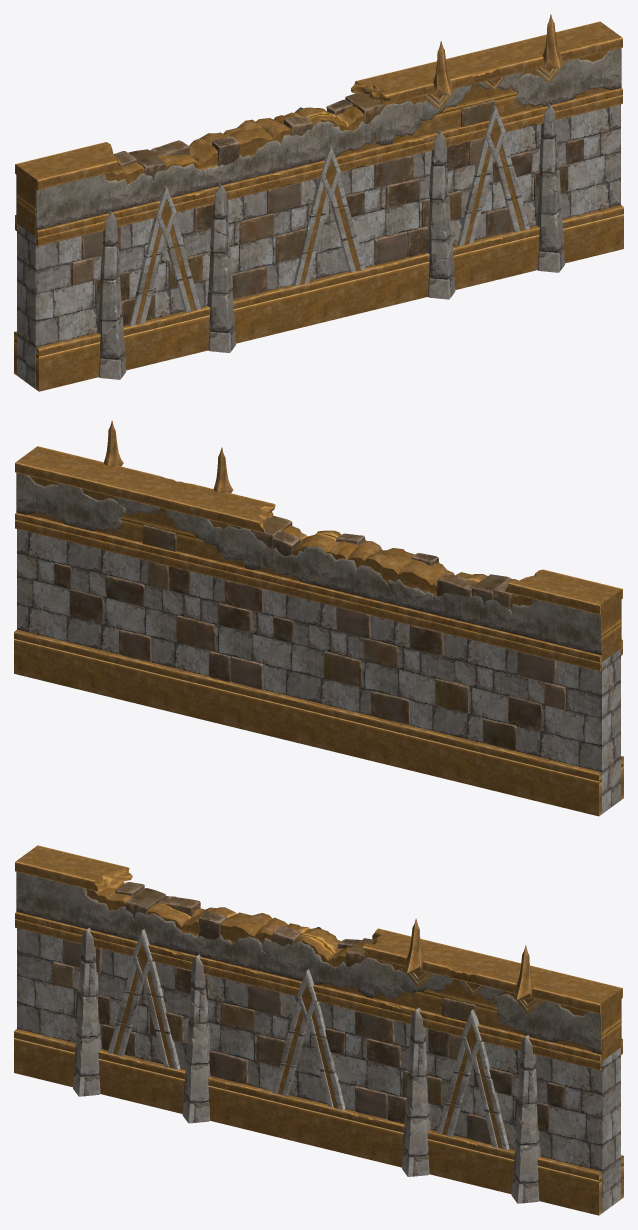
The picture shows the model from 3 angles, top to bottom: view 1: azimuth 30°, elevation 25°; view 2: azimuth 150°, elevation 25°; view 3: azimuth 330°, elevation 25°; orthographic projection.
Visible parts, largest first — view 1: SM_Fuzan_Arena_Wall_Broken_01v1_LOD0; view 2: SM_Fuzan_Arena_Wall_Broken_01v1_LOD0; view 3: SM_Fuzan_Arena_Wall_Broken_01v1_LOD0.
Part boxes in pixels (box(x1,y1,x2,y2)): SM_Fuzan_Arena_Wall_Broken_01v1_LOD0: box(14, 14, 623, 391); SM_Fuzan_Arena_Wall_Broken_01v1_LOD0: box(14, 420, 623, 816); SM_Fuzan_Arena_Wall_Broken_01v1_LOD0: box(14, 845, 623, 1215).
Size of the model in its own units: 32 by 13.21 by 3.21.
5 materials, 5 textured.
